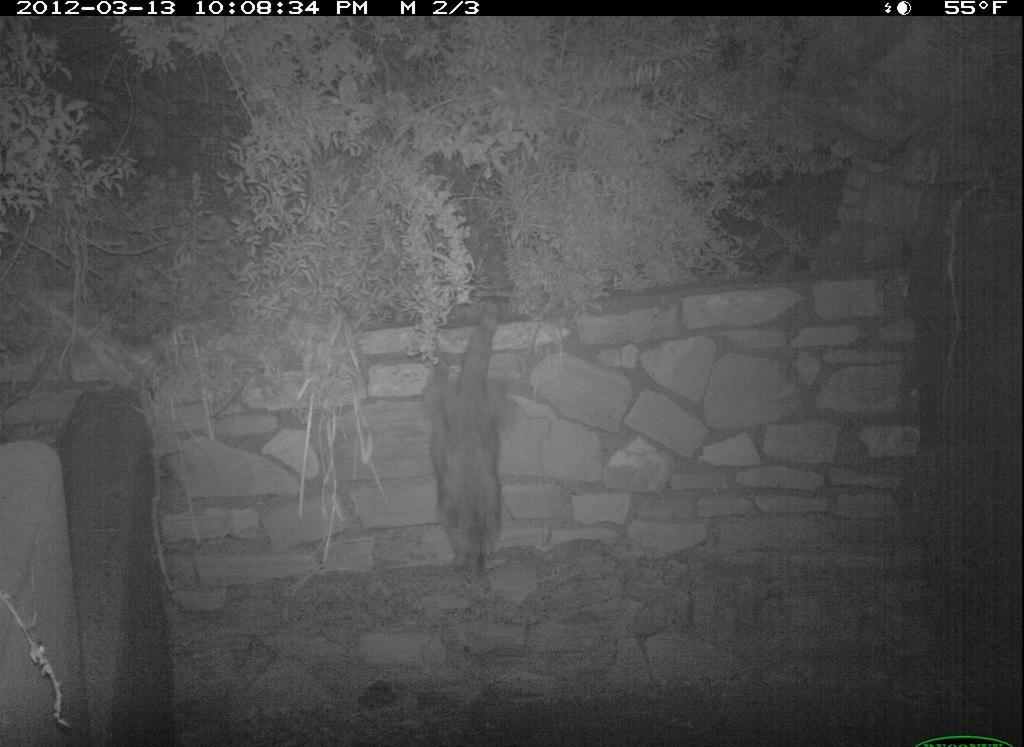raccoon: (419, 297, 518, 583)
